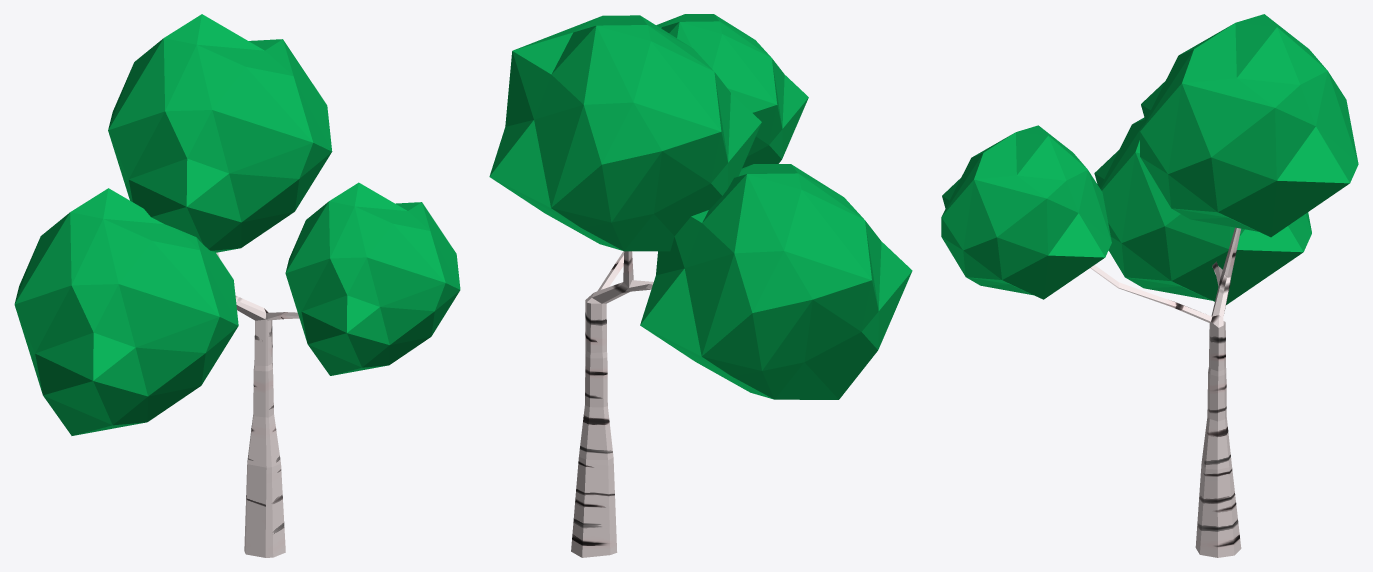
The model's file is V1_Birch_4.fbx.
The picture shows the model from 3 angles, left to right: view 1: azimuth 30°, elevation 25°; view 2: azimuth 150°, elevation 25°; view 3: azimuth 270°, elevation 25°; orthographic projection. The views are drawn at different scales.
Visible parts, largest first — view 1: V1 Birch 4_LOD0; view 2: V1 Birch 4_LOD0; view 3: V1 Birch 4_LOD0.
Part boxes in pixels (bbox=[...]): V1 Birch 4_LOD0: bbox=[14, 14, 460, 557]; V1 Birch 4_LOD0: bbox=[489, 14, 912, 557]; V1 Birch 4_LOD0: bbox=[941, 14, 1358, 557].
Size of what is drawn, in the model's own units: 432 by 644 by 481.
